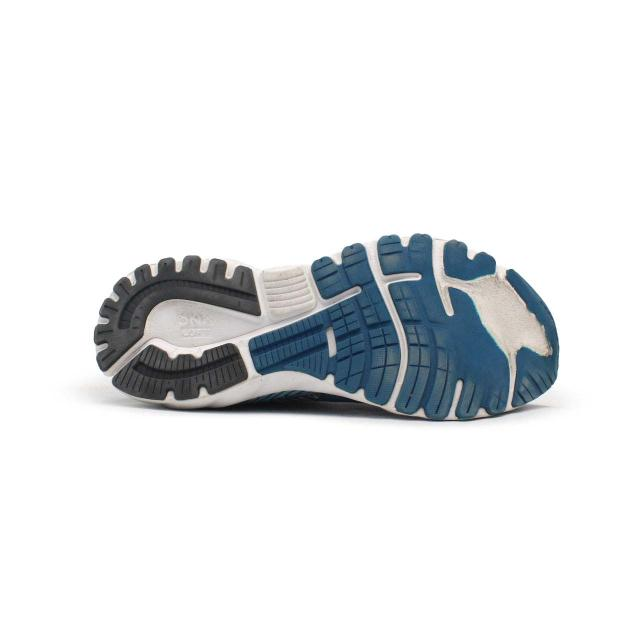outersole: (93, 236, 558, 423)
